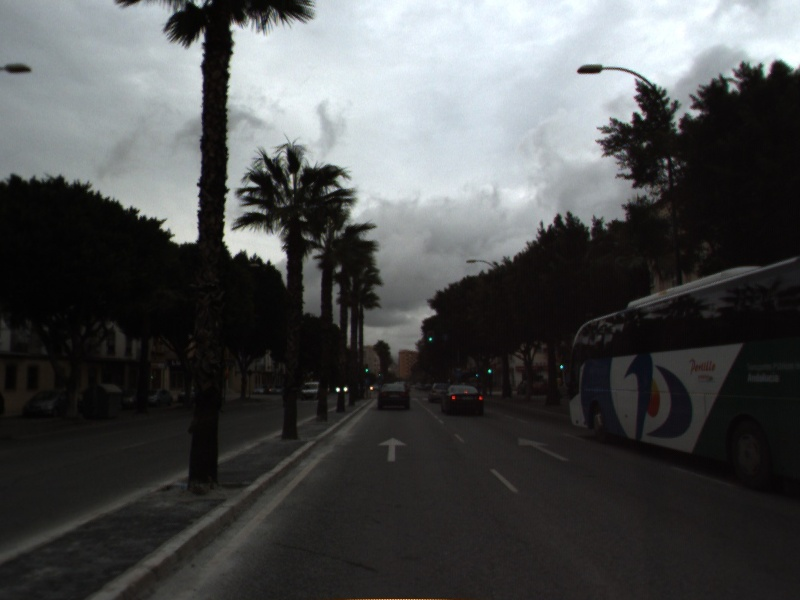STRAIGHT: (515, 435, 571, 463), (376, 435, 409, 463)
